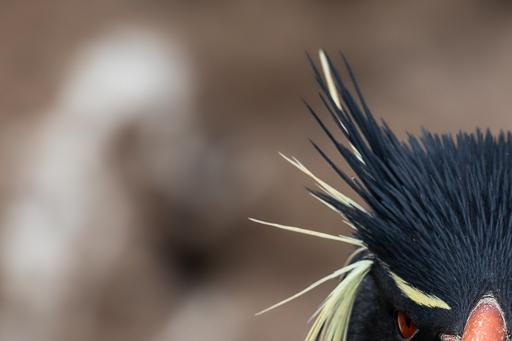Southern Rockhopper Penguin: (221, 27, 512, 341)
